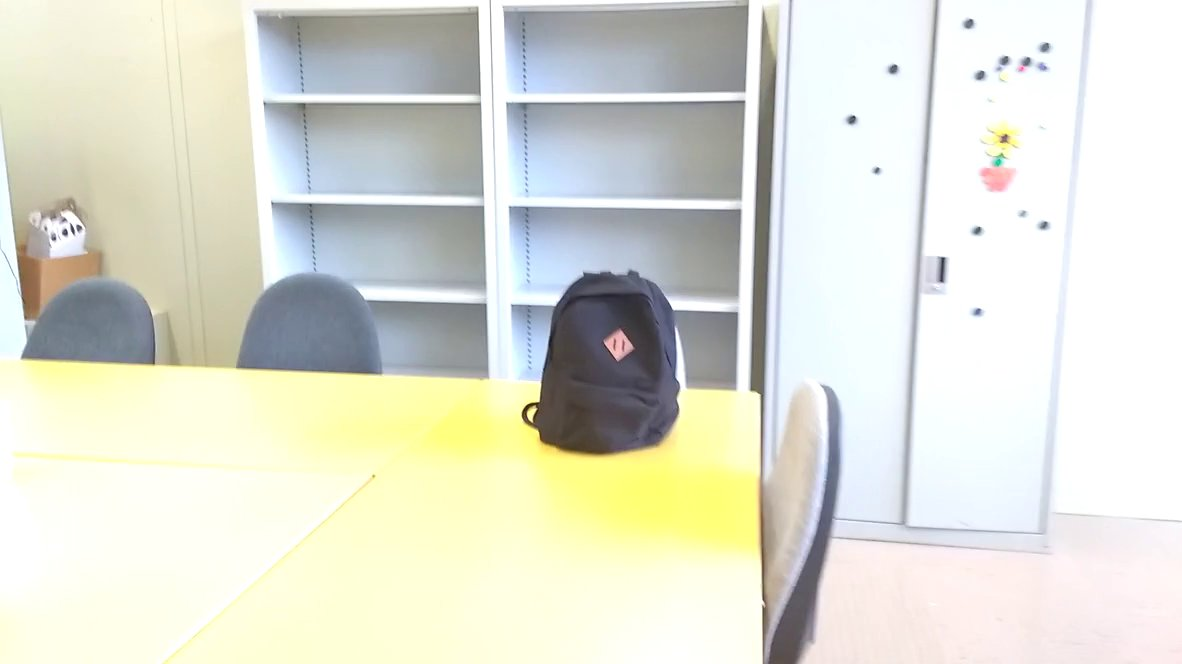bag: (514, 260, 705, 463)
chair: (738, 370, 870, 664), (206, 258, 406, 391), (7, 261, 163, 377)
